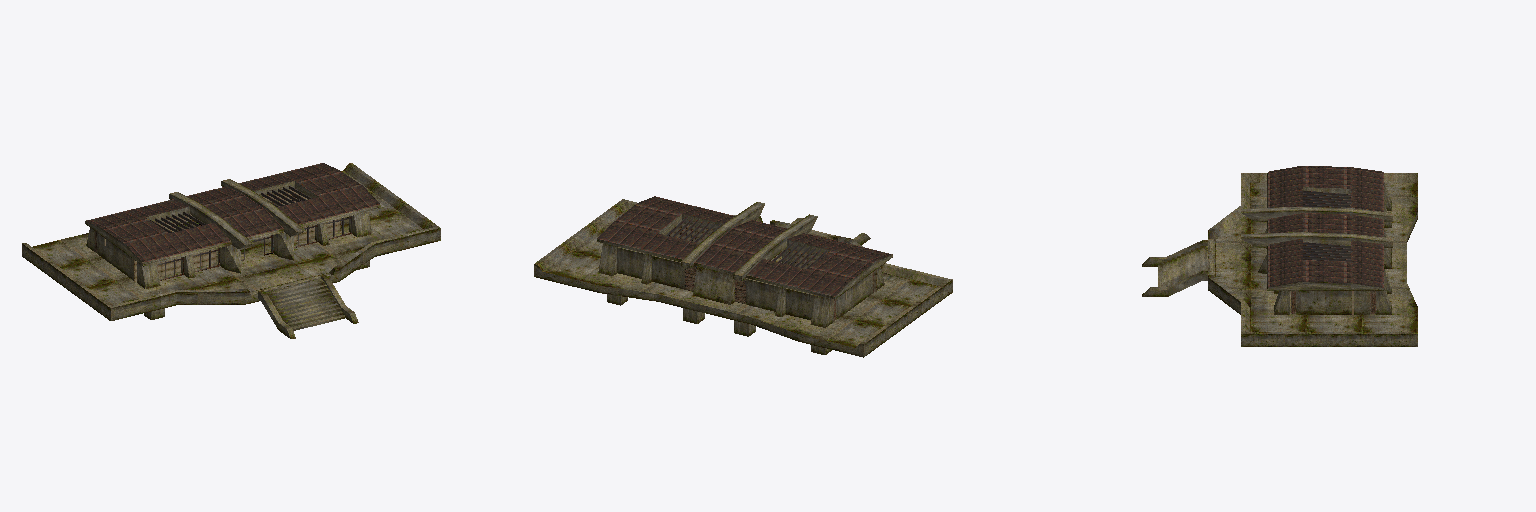
The picture shows the model from 3 angles: view 1: azimuth 30°, elevation 25°; view 2: azimuth 150°, elevation 25°; view 3: azimuth 270°, elevation 25°; orthographic projection.
Visible parts, largest first — view 1: SopPeriphWall00-00.SopPeriphWall00-00_SopPeriphWall00-00, SopRoof00-00.SopRoof00-00_SopRoof00-00, SopFrntStps00-00.SopFrntStps00-00_SopFrntStps00-00, SopIntWalls00-00.SopIntWalls00-00_SopIntWalls00-00, SopCentConcrete00-00.SopCentConcrete00-00_SopCentConcrete00-00, SopintWalls01-00.SopintWalls01-00_SopintWalls01-00; view 2: SopRoof00-00.SopRoof00-00_SopRoof00-00, SopPeriphWall00-00.SopPeriphWall00-00_SopPeriphWall00-00, SopIntWalls00-00.SopIntWalls00-00_SopIntWalls00-00, SopCentConcrete00-00.SopCentConcrete00-00_SopCentConcrete00-00; view 3: SopRoof00-00.SopRoof00-00_SopRoof00-00, SopPeriphWall00-00.SopPeriphWall00-00_SopPeriphWall00-00, SopFrntStps00-00.SopFrntStps00-00_SopFrntStps00-00, SopIntWalls00-00.SopIntWalls00-00_SopIntWalls00-00, SopCentConcrete00-00.SopCentConcrete00-00_SopCentConcrete00-00.
Boxes of the visible parts, <box> form: SopPeriphWall00-00.SopPeriphWall00-00_SopPeriphWall00-00: <box>22,163,440,320</box>; SopRoof00-00.SopRoof00-00_SopRoof00-00: <box>85,163,381,266</box>; SopFrntStps00-00.SopFrntStps00-00_SopFrntStps00-00: <box>258,275,358,338</box>; SopIntWalls00-00.SopIntWalls00-00_SopIntWalls00-00: <box>95,192,351,280</box>; SopCentConcrete00-00.SopCentConcrete00-00_SopCentConcrete00-00: <box>86,192,371,288</box>; SopintWalls01-00.SopintWalls01-00_SopintWalls01-00: <box>104,190,295,282</box>; SopRoof00-00.SopRoof00-00_SopRoof00-00: <box>597,196,892,299</box>; SopPeriphWall00-00.SopPeriphWall00-00_SopPeriphWall00-00: <box>534,199,952,357</box>; SopIntWalls00-00.SopIntWalls00-00_SopIntWalls00-00: <box>617,223,873,320</box>; SopCentConcrete00-00.SopCentConcrete00-00_SopCentConcrete00-00: <box>598,234,884,327</box>; SopRoof00-00.SopRoof00-00_SopRoof00-00: <box>1241,166,1392,290</box>; SopPeriphWall00-00.SopPeriphWall00-00_SopPeriphWall00-00: <box>1208,173,1417,346</box>; SopFrntStps00-00.SopFrntStps00-00_SopFrntStps00-00: <box>1142,240,1207,296</box>; SopIntWalls00-00.SopIntWalls00-00_SopIntWalls00-00: <box>1258,229,1375,314</box>; SopCentConcrete00-00.SopCentConcrete00-00_SopCentConcrete00-00: <box>1274,182,1391,314</box>.
Size of the model in its own units: 2 by 0.4018 by 1.45.
Materials: 21 (12 with a texture image).